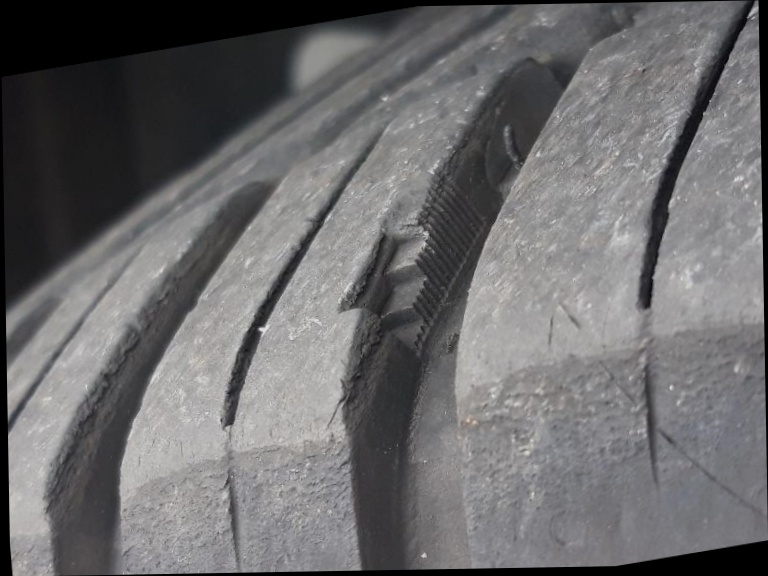temoin:80: (314, 143, 509, 380)
